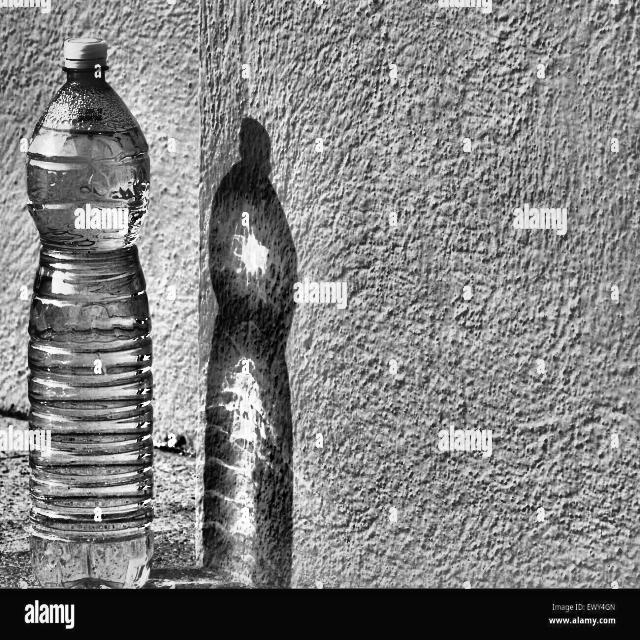waterbottle: (16, 26, 168, 601)
